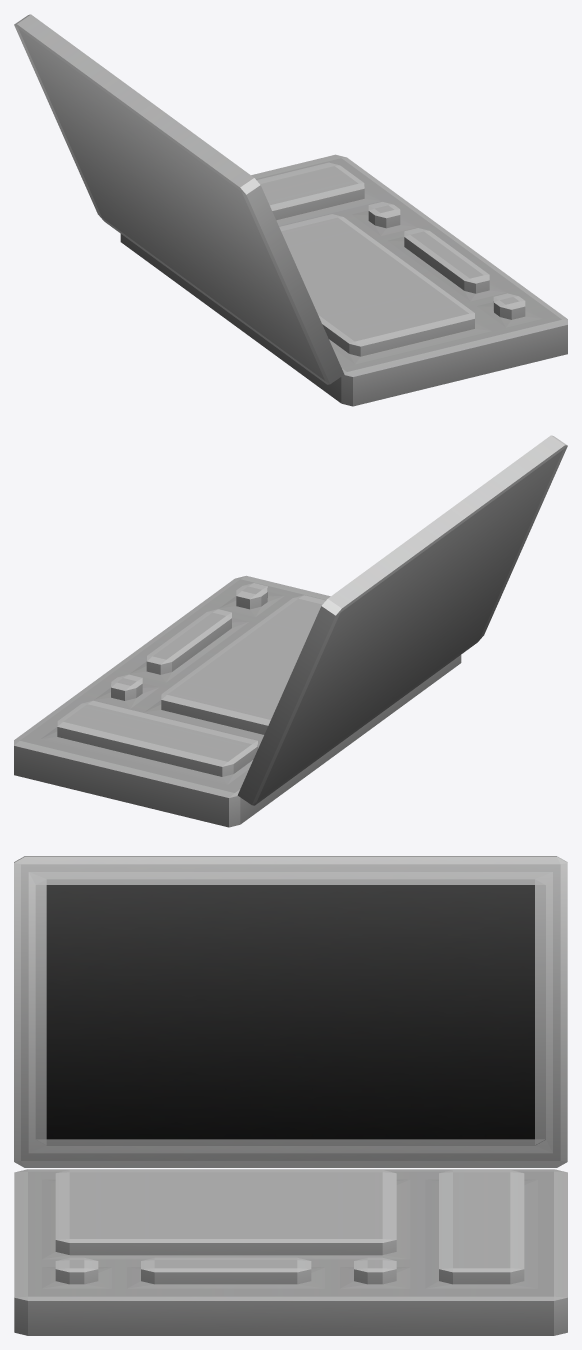
Rendered from LaptopClose.fbx.
3 views of the same model, one above another, from view 1: azimuth 30°, elevation 25°; view 2: azimuth 150°, elevation 25°; view 3: azimuth 270°, elevation 25° (orthographic). The views are drawn at different scales.
Parts seen in each view (by area): view 1: LaptopBottom, LaptopTop; view 2: LaptopBottom, LaptopTop; view 3: LaptopTop, LaptopBottom.
Part boxes in pixels (left/top/right/bottom): LaptopBottom: left=120, top=154, right=567, bottom=406; LaptopTop: left=14, top=14, right=344, bottom=384; LaptopBottom: left=14, top=575, right=461, bottom=827; LaptopTop: left=237, top=435, right=567, bottom=805; LaptopTop: left=14, top=856, right=567, bottom=1167; LaptopBottom: left=14, top=1169, right=567, bottom=1335.
Bounding box in the file's own units: 99.4 × 71.94 × 122.
1 material, 1 textured.
